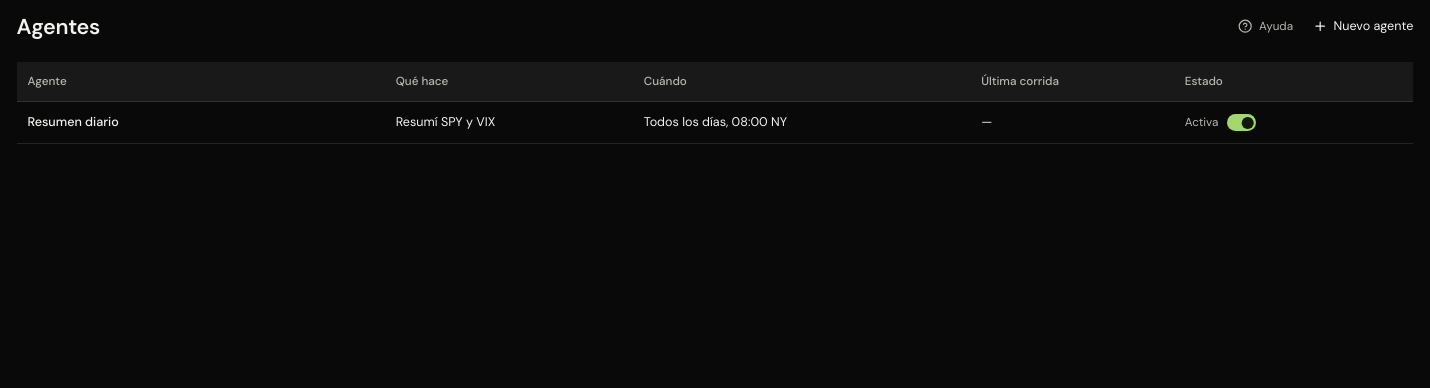
Scenario: con el borrado pedido se avisa y no se ofrece Borrar
The width and height of the screenshot is (1430, 388).
Click the button "Resumen diario" at (73, 122), box [27,114,119,130]
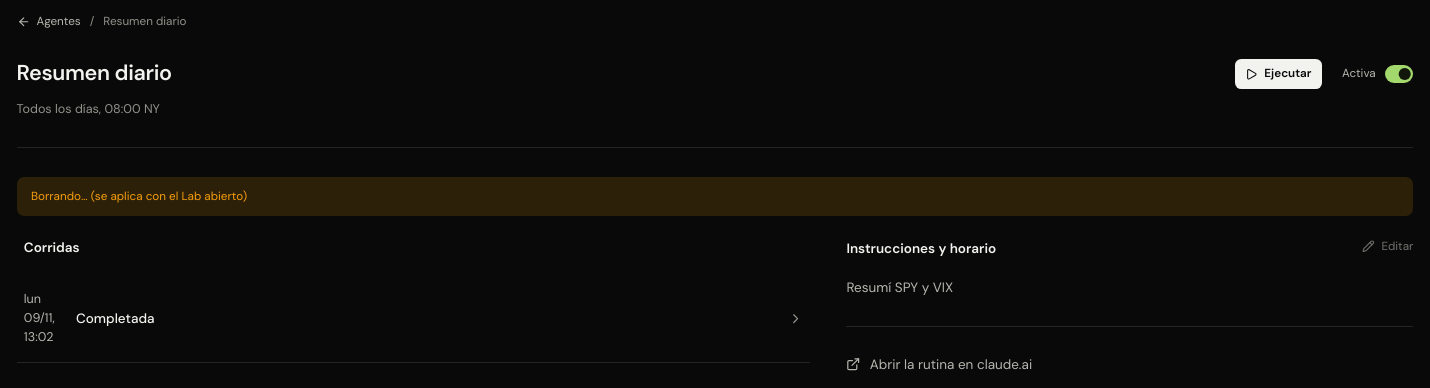
Expected: the message reads "Borrando… (se aplica con el Lab abierto)", [31,188,247,204]
